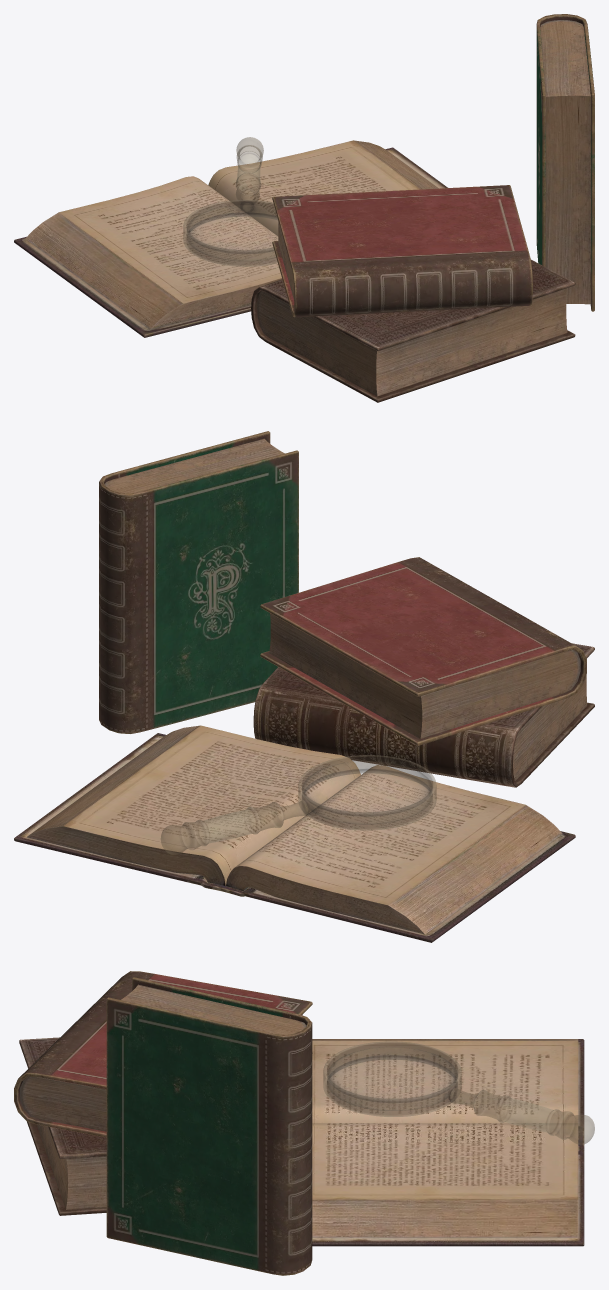
The model's file is books_mobile.glb.
The picture shows the model from 3 angles, top to bottom: view 1: azimuth 30°, elevation 25°; view 2: azimuth 150°, elevation 25°; view 3: azimuth 270°, elevation 25°; orthographic projection. The views are drawn at different scales.
Parts seen in each view (by area): view 1: Open_book, Book_3, Book_1, Book_2, Magnifier; view 2: Open_book, Book_2, Book_3, Book_1, Magnifier; view 3: Open_book, Book_2, Book_3, Magnifier, Book_1.
Part boxes in pixels (bbox=[...]): Open_book: bbox=[14, 140, 447, 337]; Book_3: bbox=[272, 185, 532, 317]; Book_1: bbox=[251, 259, 575, 402]; Book_2: bbox=[536, 14, 594, 311]; Magnifier: bbox=[183, 137, 277, 266]; Open_book: bbox=[14, 725, 575, 942]; Book_2: bbox=[99, 431, 298, 733]; Book_3: bbox=[260, 557, 586, 745]; Book_1: bbox=[253, 643, 594, 787]; Magnifier: bbox=[161, 755, 436, 854]; Open_book: bbox=[312, 1039, 584, 1246]; Book_2: bbox=[106, 977, 312, 1275]; Book_3: bbox=[14, 971, 312, 1137]; Magnifier: bbox=[323, 1041, 594, 1144]; Book_1: bbox=[19, 1037, 106, 1215].
Size of the model in its own units: 0.4027 by 0.1928 by 0.4216.
5 materials, 5 textured.
